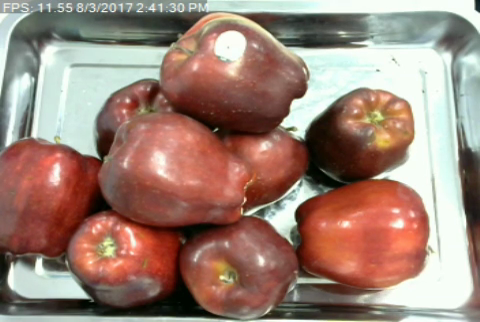Apple: (152, 7, 312, 136), (95, 108, 253, 231), (291, 174, 433, 291), (176, 213, 299, 322), (0, 132, 103, 258), (64, 207, 185, 310), (303, 85, 419, 185)
